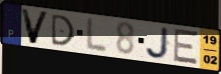8: (115, 21, 137, 58)
D: (50, 13, 76, 47)
E: (172, 28, 200, 67)
J: (144, 26, 171, 61)
L: (84, 16, 109, 55)
V: (19, 7, 51, 46)
